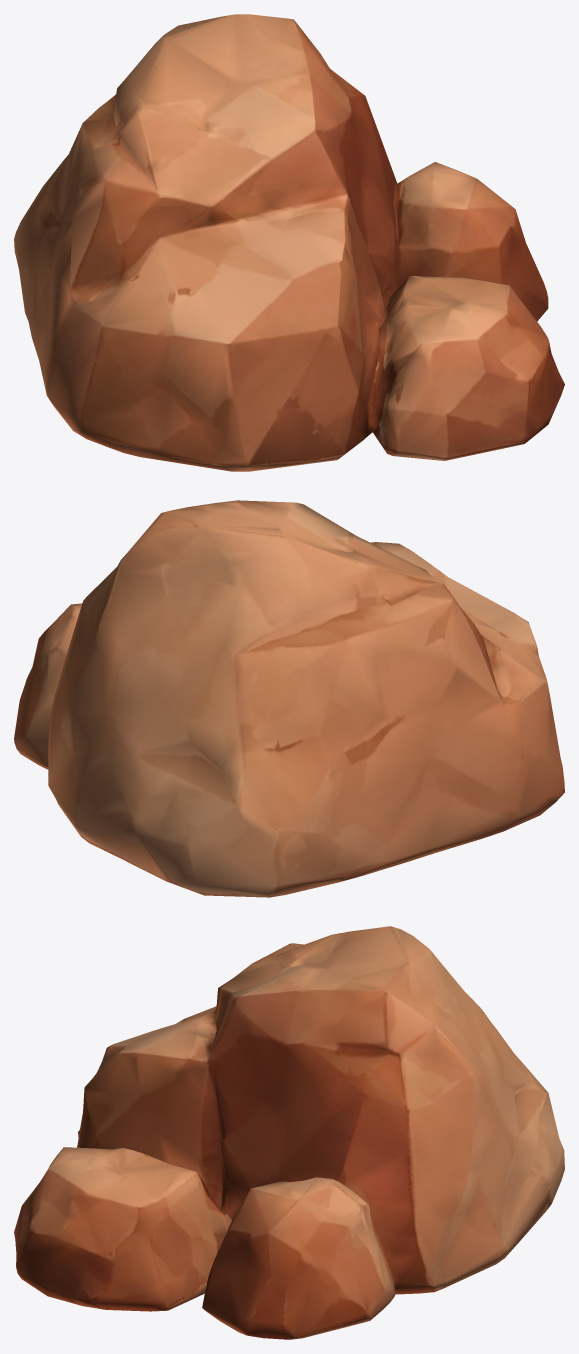
Rendered from rock_desert.glb.
3 renders of one model, top to bottom at view 1: azimuth 30°, elevation 25°; view 2: azimuth 150°, elevation 25°; view 3: azimuth 270°, elevation 25°, orthographic. The views are drawn at different scales.
Parts seen in each view (by area): view 1: BakeLow; view 2: BakeLow; view 3: BakeLow.
Boxes of the visible parts, <box> form: BakeLow: <box>14,14,564,471</box>; BakeLow: <box>14,500,564,897</box>; BakeLow: <box>14,926,564,1339</box>.
Size of the model in its own units: 0.9056 by 0.5246 by 0.9349.
Materials: 1 (1 with a texture image).
